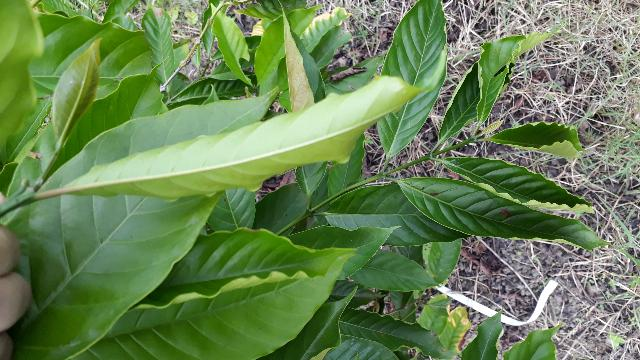healthy: (62, 74, 422, 202)
